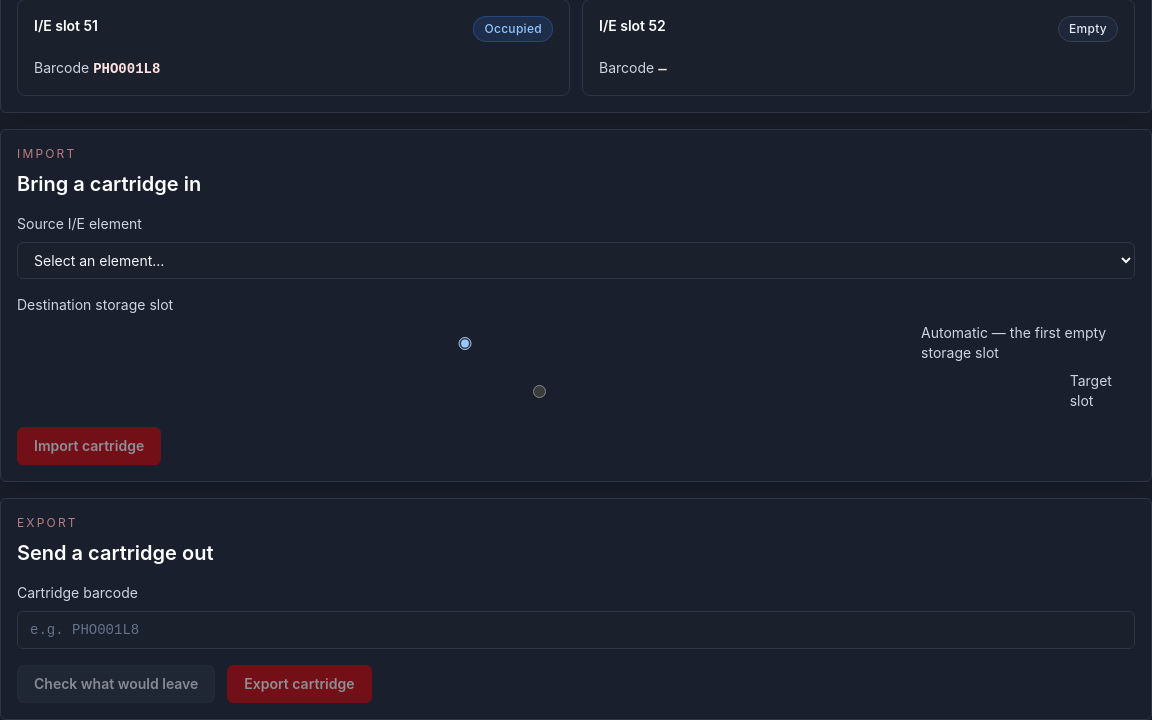
Test case: Mailslot › exports a cartridge that carries nothing without asking for confirmation
(page scrolled)
In the field labelled "Cartridge barcode": (576,630) [17,611,1135,649], type "SCR001L8"
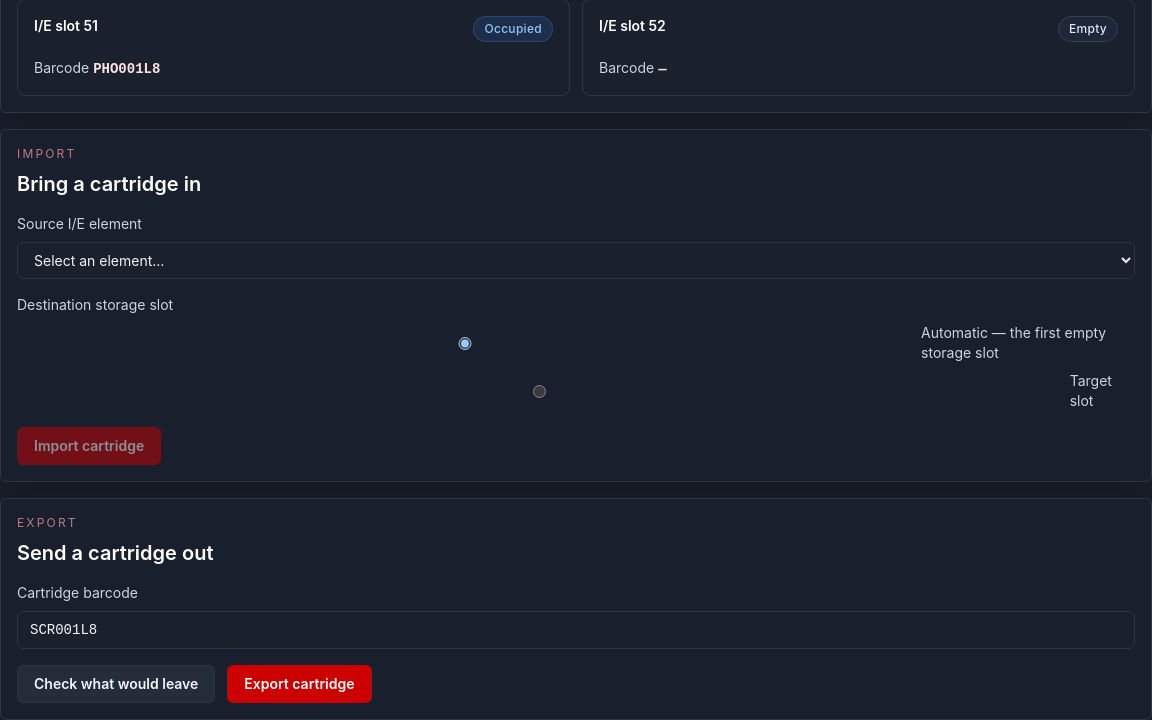
Click the button "Export cartridge": (299,684) [227,665,372,703]
(page scrolled)
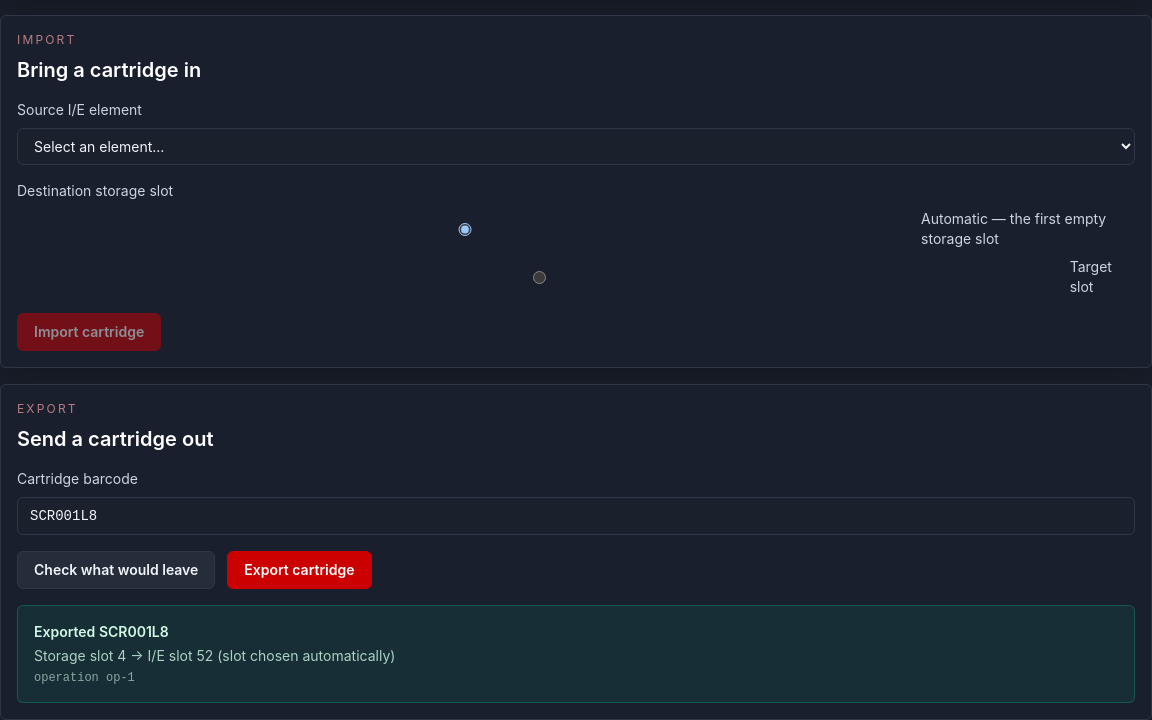
Now the text "Exported SCR001L8" is shown, box [34,623,169,640]
